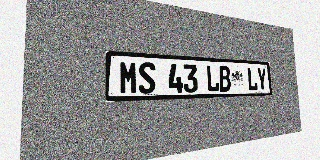3: (183, 64, 198, 93)
4: (168, 63, 183, 93)
B: (218, 66, 231, 92)
L: (206, 65, 219, 92), (247, 67, 258, 91)
M: (119, 61, 138, 94)
S: (138, 62, 156, 94)
Y: (257, 68, 267, 91)
